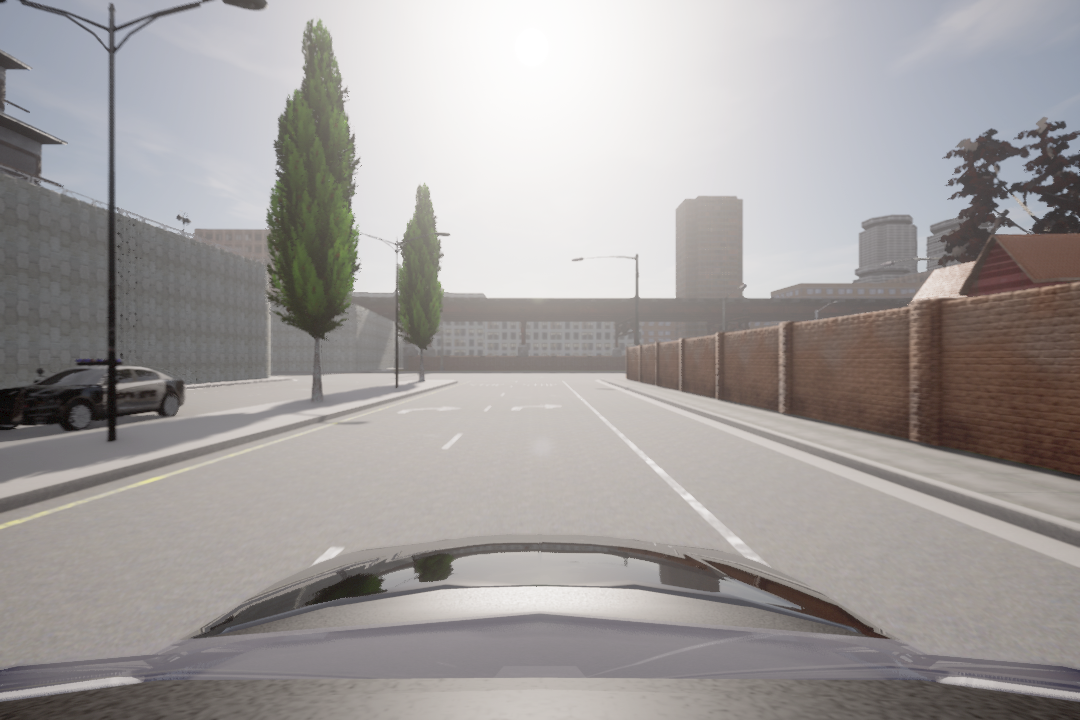RoadSign_right: (396, 401, 463, 417), (505, 400, 564, 417)
